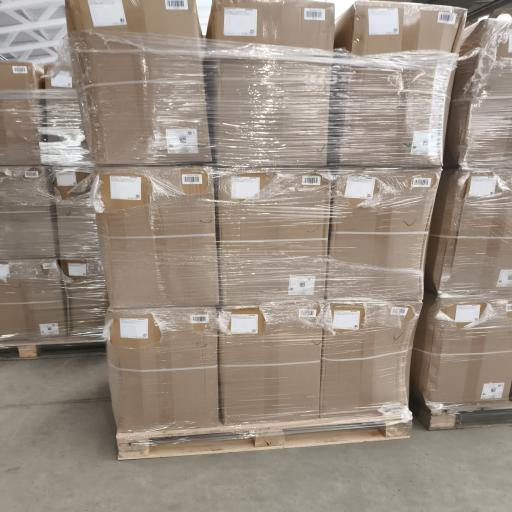pallet: (117, 416, 411, 459), (410, 394, 511, 430), (0, 339, 105, 360)
